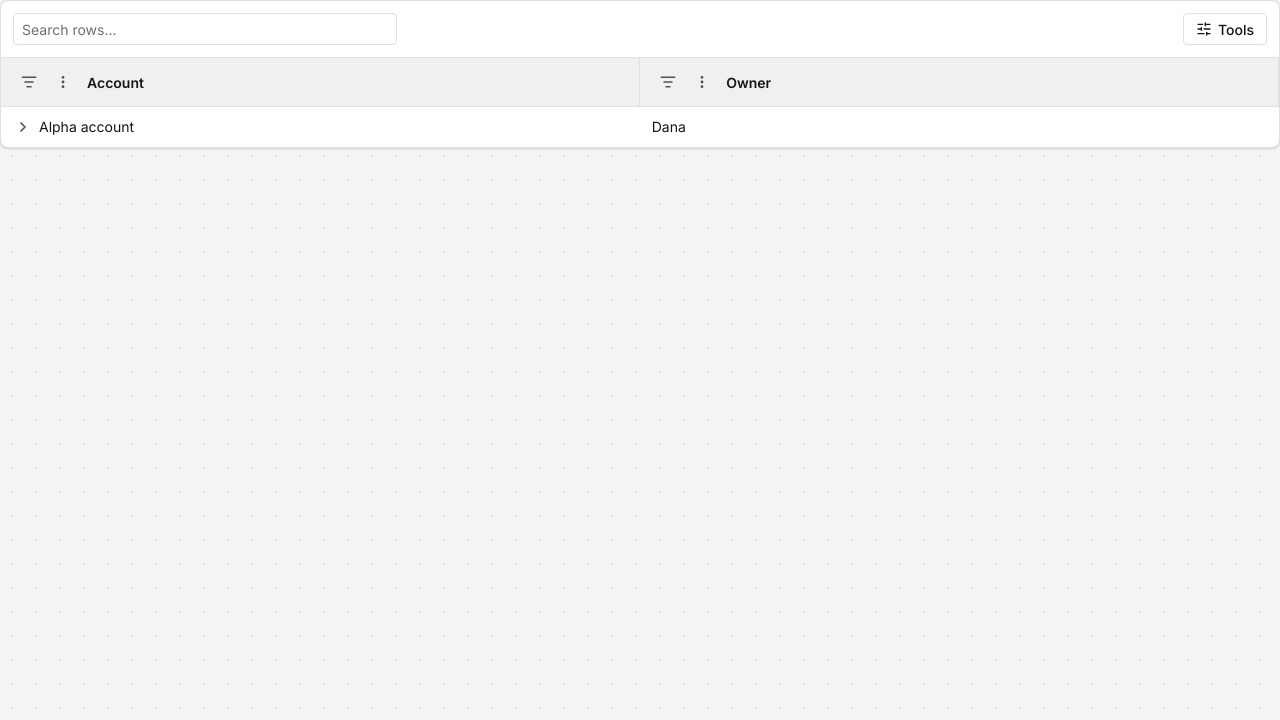
Test: DataGrid master-detail rows › renders an expanded detail row below the source row
expect the text "Details for Alpha account" is not shown: met
Click the button named "Expand Alpha account" at coordinates (23, 127), box [13,117,33,137]
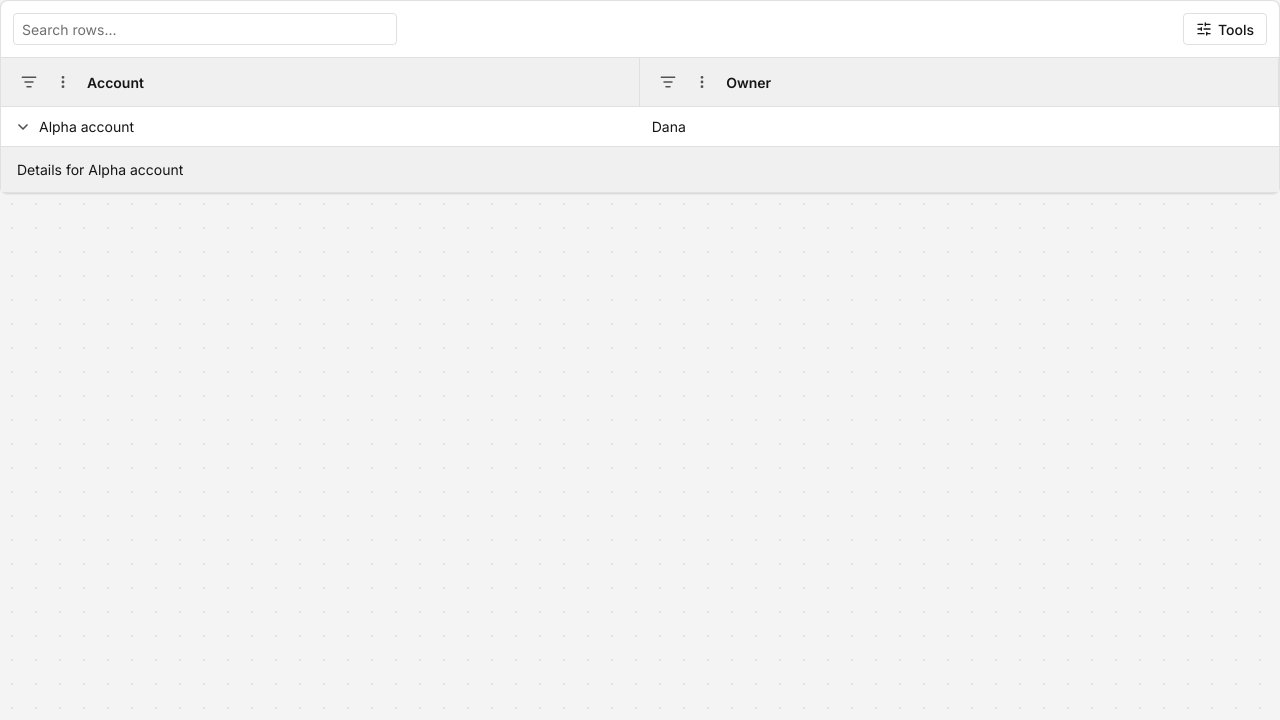
expect the text "Details for Alpha account" is shown: met, box [17,161,183,178]
